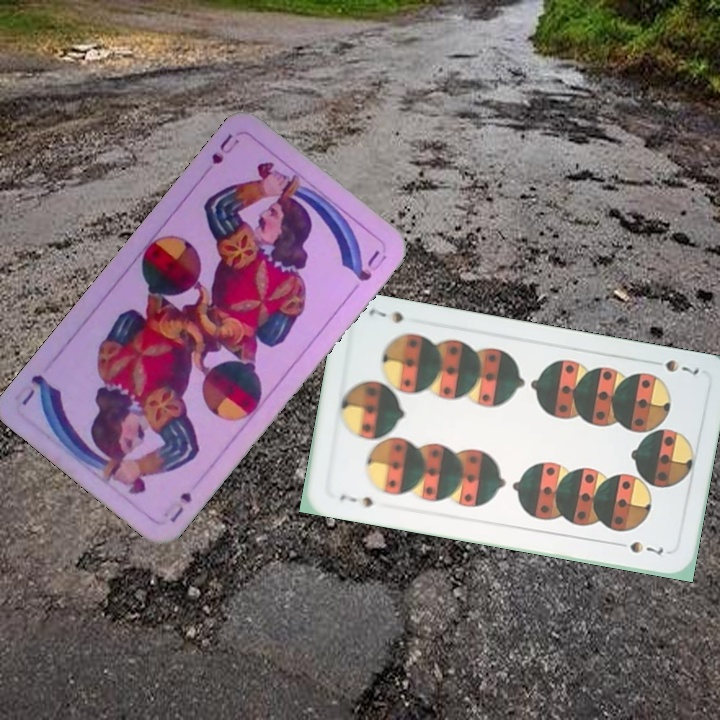S7: (661, 355, 702, 377), (336, 490, 376, 510)
SU: (207, 129, 242, 167), (165, 488, 195, 526)
